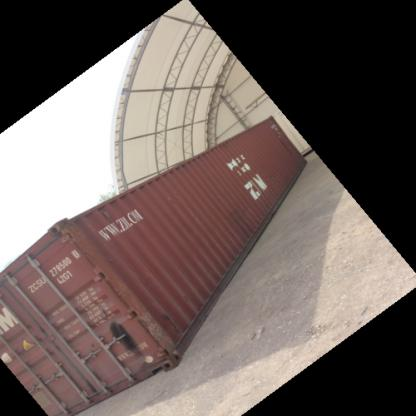Damage: (106, 318, 144, 361), (219, 200, 256, 240), (156, 307, 187, 336), (274, 132, 298, 162), (97, 205, 115, 227)
